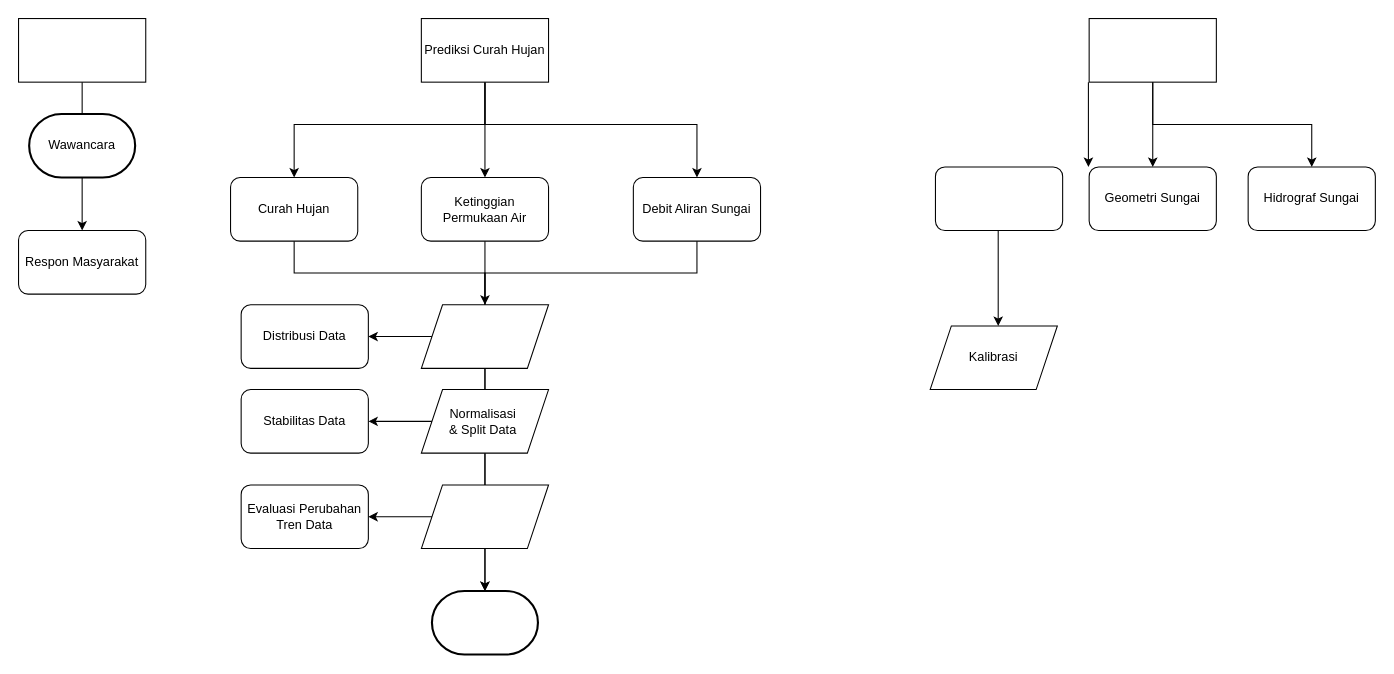
Some shapes in this 1394 by 674 pixel diagram are drawn without their labels. The shapes that lost their labels are listed below. From the top down, each one's centre as x and y in pixels, then its label:
At point (81, 49): "Kuesioner Wawancara".
At point (1152, 49): "Pemodelan Limpasan Banjir".
At point (998, 198): "TRRM".
At point (484, 336): "EDA".
At point (484, 516): "Uji Stationer & Konsistensi Data".
At point (484, 622): "LSTM (RNN)".
